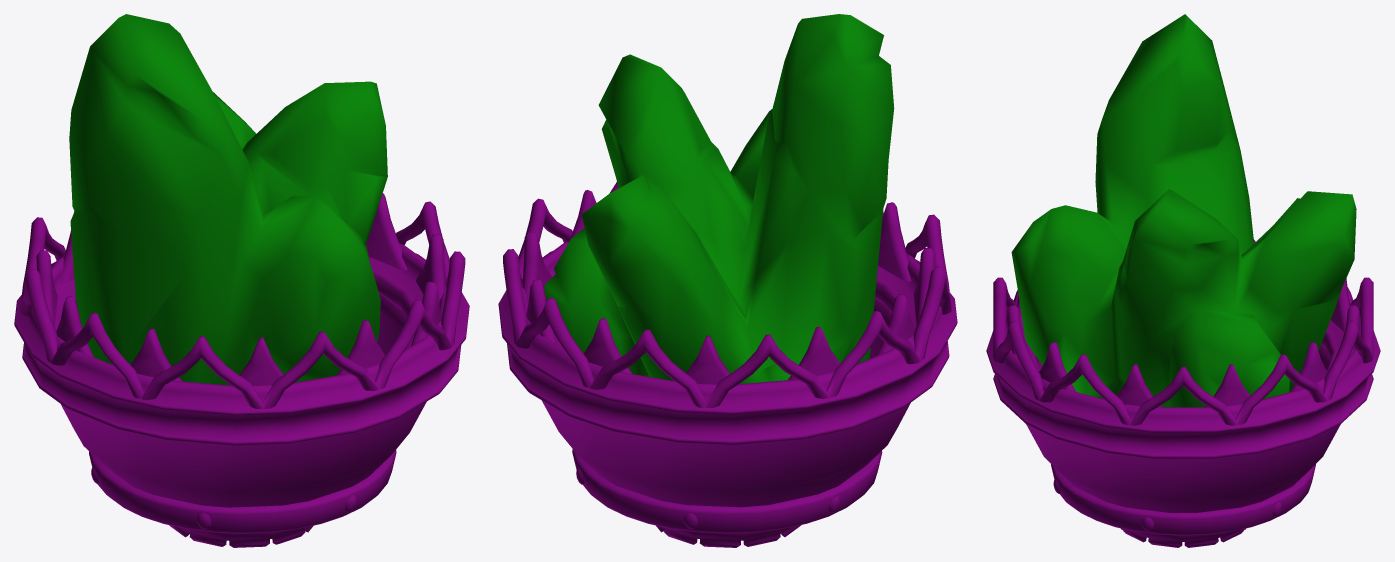
Rendered from LDI_Bouton.fbx.
3 views of the same model, side by side, from view 1: azimuth 30°, elevation 25°; view 2: azimuth 150°, elevation 25°; view 3: azimuth 270°, elevation 25° (orthographic). The views are drawn at different scales.
Parts seen in each view (by area): view 1: LDI_Bouton; view 2: LDI_Bouton; view 3: LDI_Bouton.
Part boxes in pixels (left/top/right/bottom): LDI_Bouton: left=14, top=14, right=469, bottom=547; LDI_Bouton: left=498, top=14, right=957, bottom=547; LDI_Bouton: left=986, top=14, right=1380, bottom=547.
Bounding box in the file's own units: 104 × 135 × 105.
